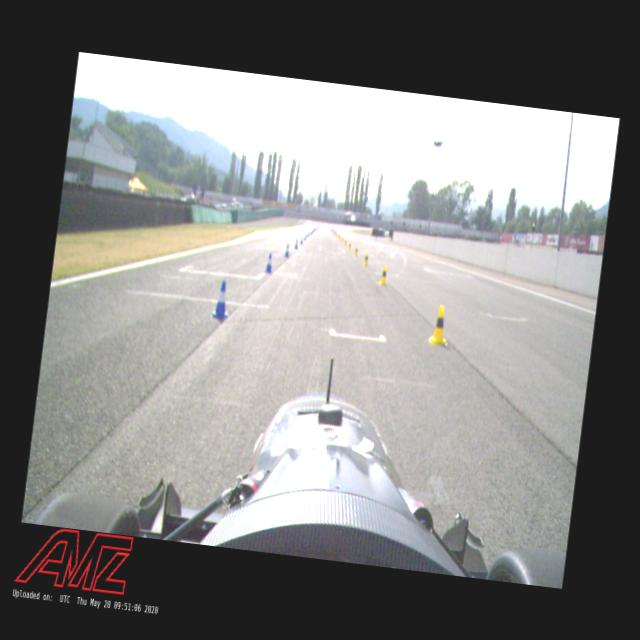blue_cone: (210, 278, 232, 322), (264, 252, 274, 274), (284, 243, 290, 257), (294, 238, 298, 250), (299, 234, 303, 243), (306, 232, 309, 238), (304, 233, 306, 240)
yellow_cone: (428, 303, 452, 347), (377, 264, 390, 286), (362, 250, 370, 266), (347, 240, 352, 250), (354, 245, 358, 256), (343, 238, 348, 245), (340, 236, 343, 242), (338, 234, 340, 240), (337, 233, 339, 238)
